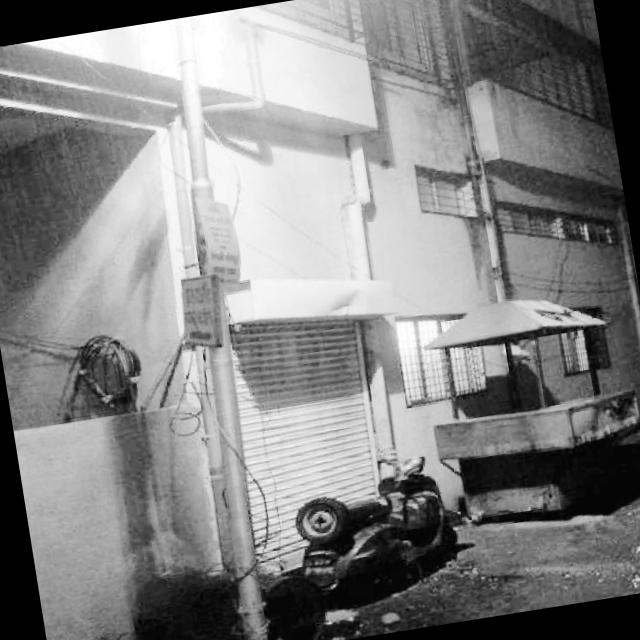Motorcycle: (252, 426, 510, 640)
